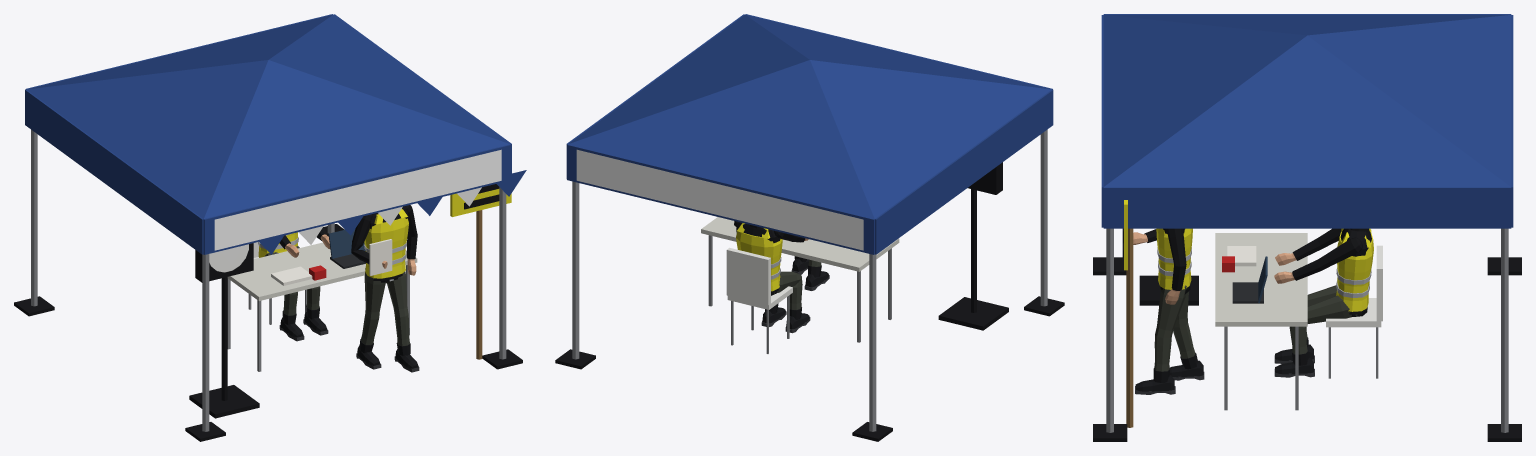
Rendered from time_check.glb.
3 renders of one model, left to right at view 1: azimuth 30°, elevation 25°; view 2: azimuth 150°, elevation 25°; view 3: azimuth 270°, elevation 25°, orthographic. The views are drawn at different scales.
Visible parts, largest first — view 1: Tent, Track, Timekeeper; view 2: Tent, Timekeeper, Track; view 3: Tent, Timekeeper, Track.
Boxes of the visible parts, x1,y1,x2,y2 form: Tent: (14, 14, 526, 441); Track: (351, 205, 419, 372); Timekeeper: (258, 227, 330, 341); Tent: (555, 14, 1064, 441); Timekeeper: (734, 221, 810, 333); Track: (791, 256, 829, 290); Tent: (1093, 14, 1521, 441); Timekeeper: (1274, 228, 1373, 377); Track: (1133, 228, 1204, 394).
Size of the model in its own units: 3.34 by 2.65 by 3.26.
